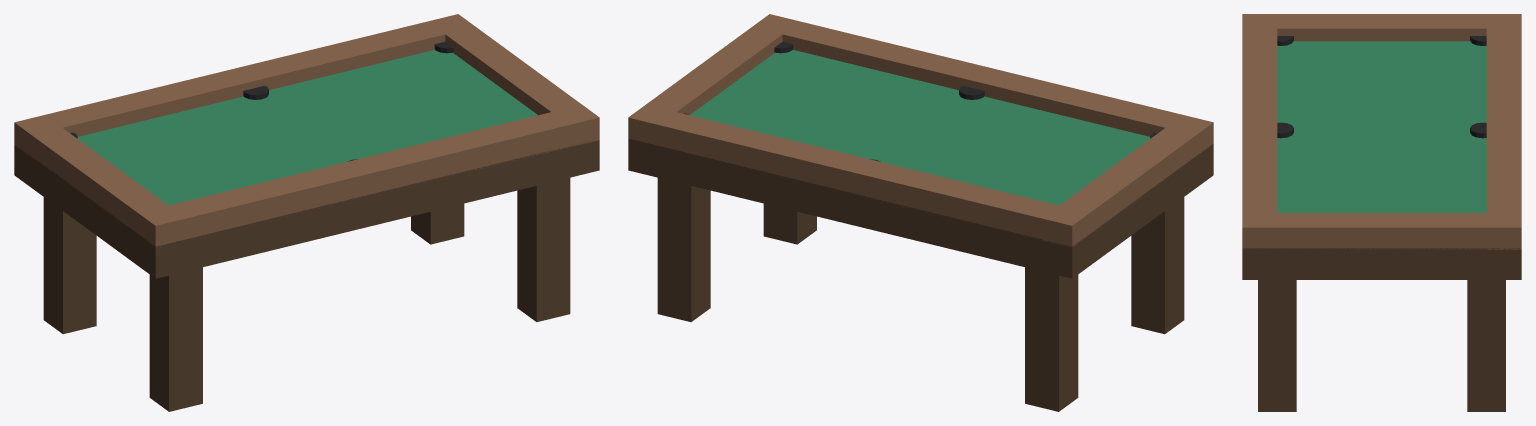
Rendered from PoolTable.fbx.
The picture shows the model from 3 angles, left to right: view 1: azimuth 30°, elevation 25°; view 2: azimuth 150°, elevation 25°; view 3: azimuth 270°, elevation 25°; orthographic projection.
Visible parts, largest first — view 1: PoolTable; view 2: PoolTable; view 3: PoolTable.
Boxes of the visible parts, x1,y1,x2,y2 form: PoolTable: (14,14,599,411); PoolTable: (628,14,1213,411); PoolTable: (1242,14,1521,411).
Bounding box in the file's own units: 2.9 × 1.23 × 1.6.
